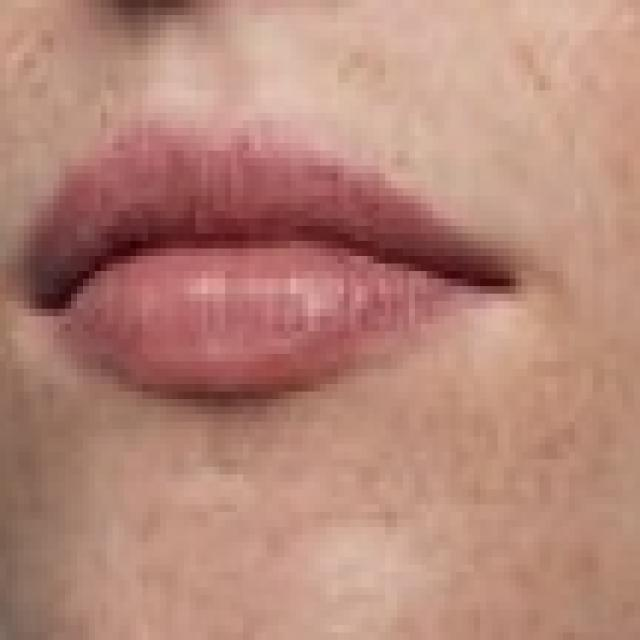closed-mouth: (18, 98, 528, 399)
